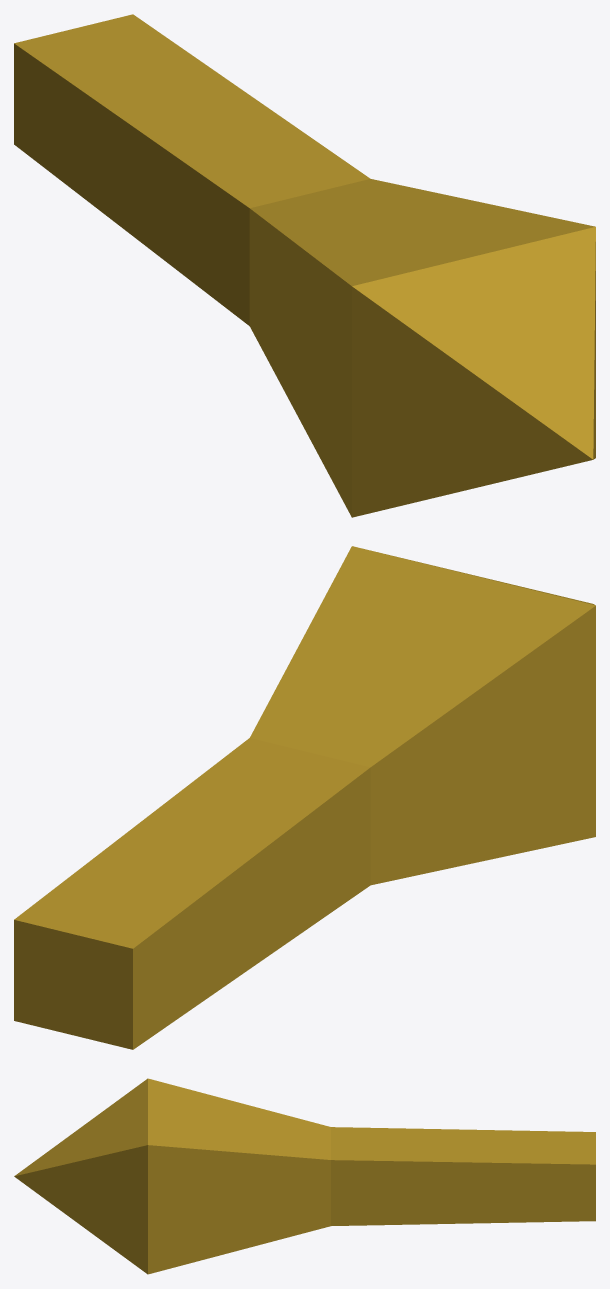
Rendered from A_BOXLOD.bgf.obj.
3 views of the same model, one above another, from view 1: azimuth 30°, elevation 25°; view 2: azimuth 150°, elevation 25°; view 3: azimuth 270°, elevation 25° (orthographic). The views are drawn at different scales.
Parts seen in each view (by area): view 1: DUMMY; view 2: DUMMY; view 3: DUMMY.
Boxes of the visible parts, x1,y1,x2,y2 form: DUMMY: [14, 14, 595, 517]; DUMMY: [14, 546, 595, 1049]; DUMMY: [14, 1078, 595, 1274].
Size of the model in its own units: 0.543 by 0.492 by 2.
1 material, 1 textured.
